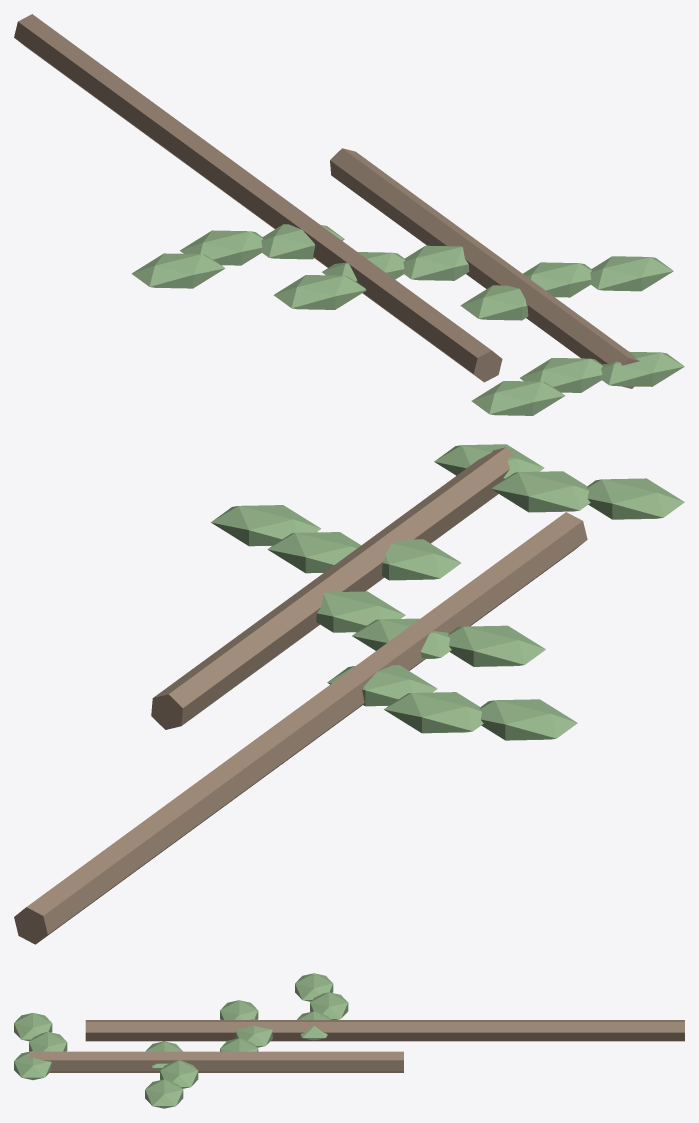
The model's file is poison_ivy.glb.
3 views of the same model, one above another, from view 1: azimuth 30°, elevation 25°; view 2: azimuth 150°, elevation 25°; view 3: azimuth 270°, elevation 25° (orthographic). The views are drawn at different scales.
Visible parts, largest first — view 1: world; view 2: world; view 3: world.
Part boxes in pixels (x1,y1,x2,y2): world: (14,14,684,415); world: (14,444,684,944); world: (14,973,684,1108).
Bounding box in the file's own units: 0.8231 × 0.0598 × 1.79.
